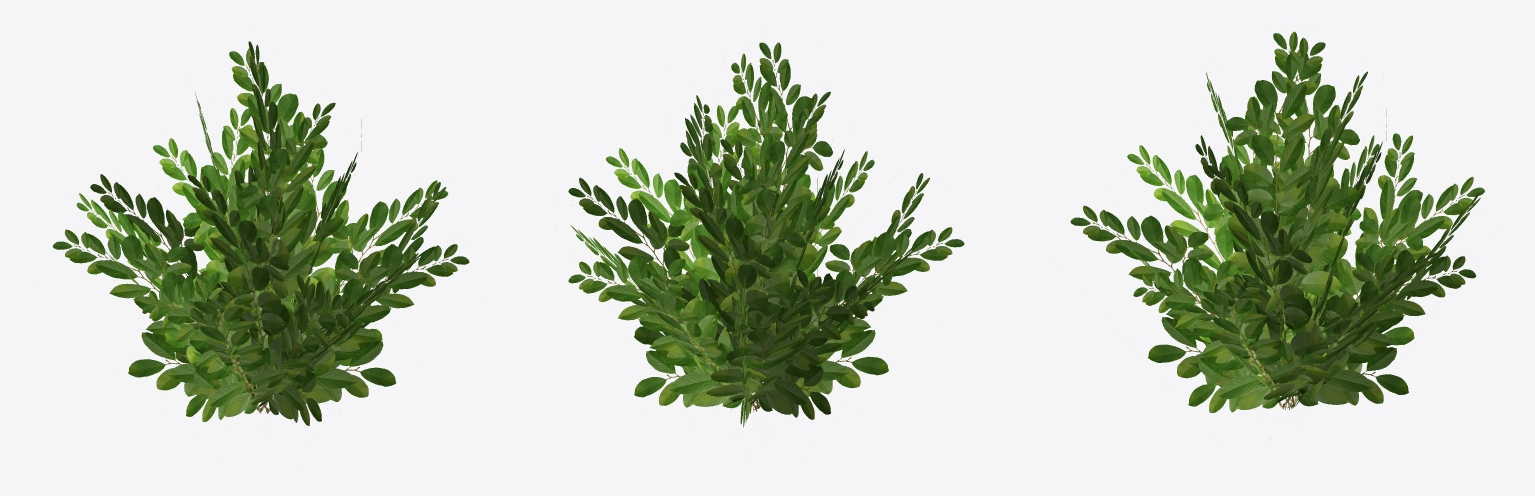
The model's file is bush4.FBX.
The picture shows the model from 3 angles, left to right: view 1: azimuth 30°, elevation 25°; view 2: azimuth 150°, elevation 25°; view 3: azimuth 270°, elevation 25°; orthographic projection. The views are drawn at different scales.
Parts seen in each view (by area): view 1: bush4; view 2: bush4; view 3: bush4.
Part boxes in pixels (x1,y1,x2,y2): bush4: [52, 41, 469, 425]; bush4: [568, 42, 964, 427]; bush4: [1070, 31, 1484, 412].
Size of the model in its own units: 4.77 by 4.59 by 4.76.
